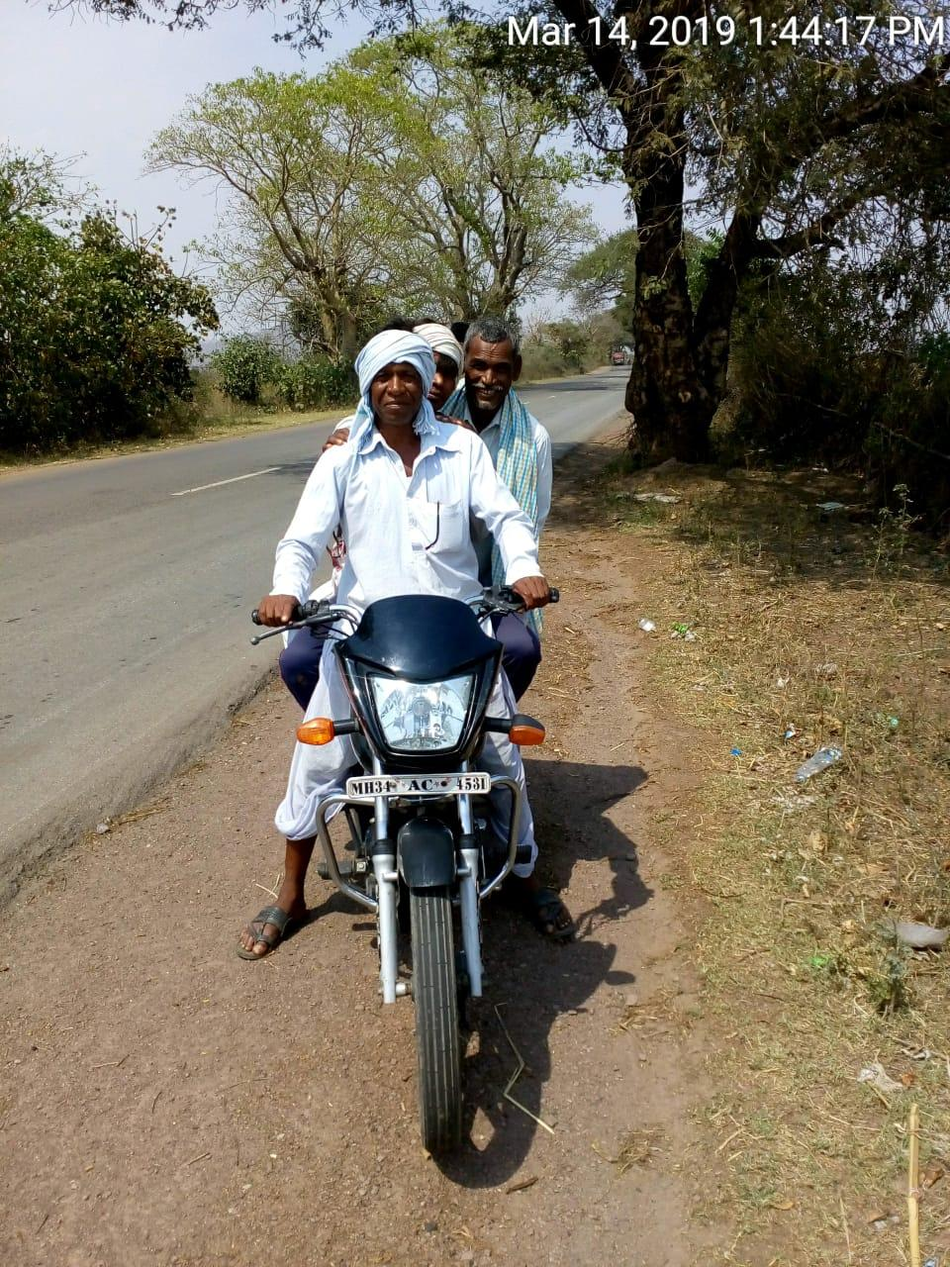plate: (333, 763, 500, 807)
